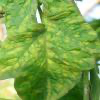Tomato mold leaf: (2, 0, 99, 99)
